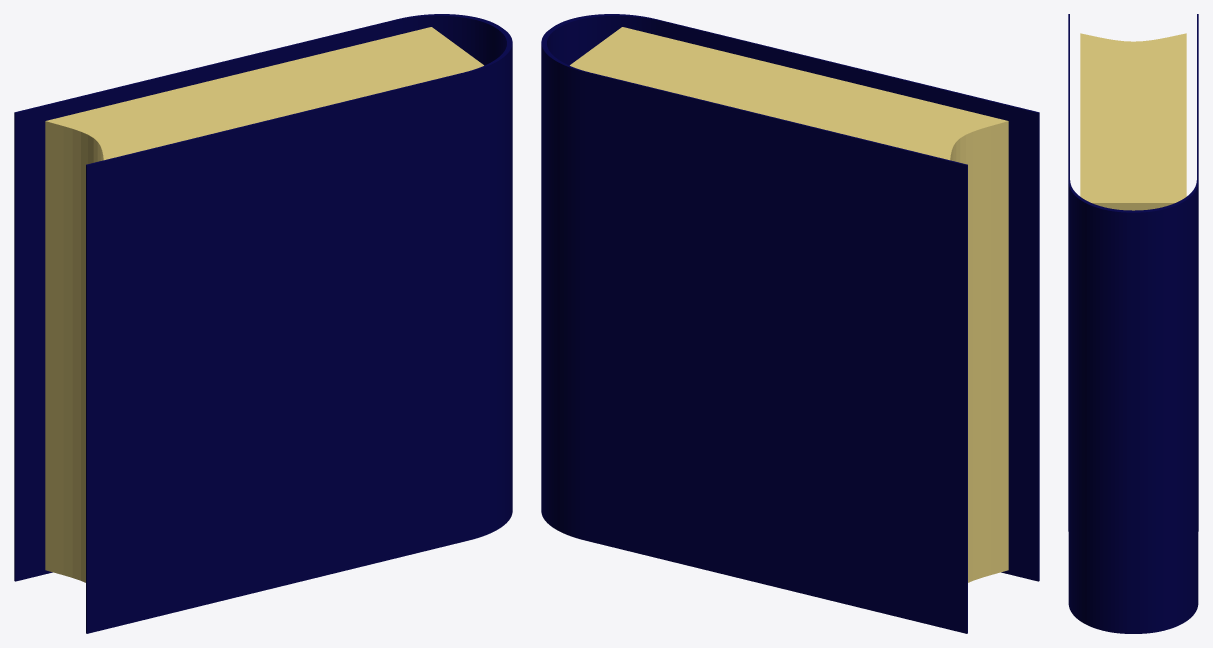
The model's file is Libro.fbx.
The picture shows the model from 3 angles, left to right: view 1: azimuth 30°, elevation 25°; view 2: azimuth 150°, elevation 25°; view 3: azimuth 270°, elevation 25°; orthographic projection. The views are drawn at different scales.
Parts seen in each view (by area): view 1: Libro; view 2: Libro; view 3: Libro.
Part boxes in pixels (left/top/right/bottom): Libro: left=14, top=14, right=512, bottom=633; Libro: left=541, top=14, right=1039, bottom=633; Libro: left=1068, top=14, right=1198, bottom=633.
Size of the model in its own units: 16.94 by 16.76 by 4.71.
